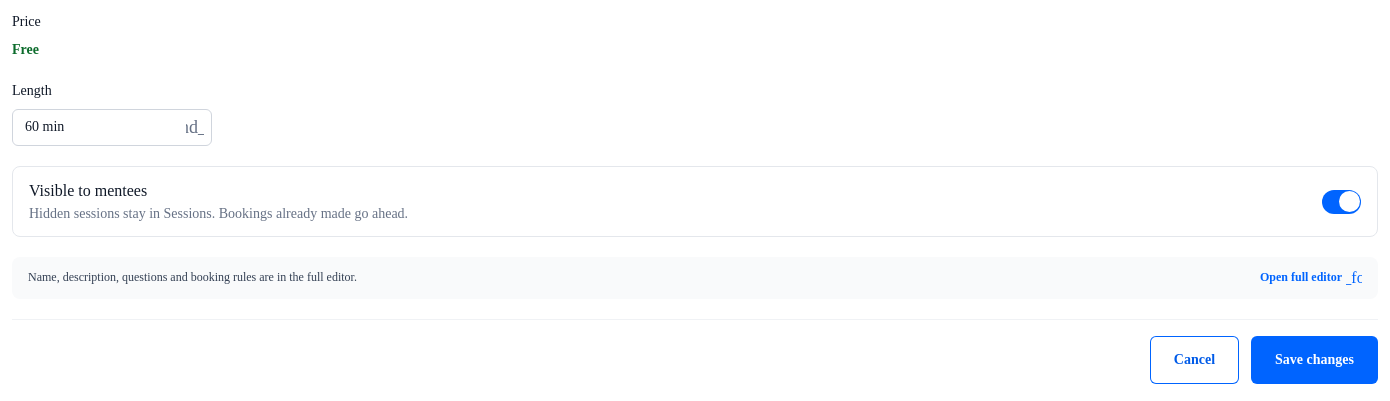
Test: SessionTypeQuickEdit › Length is named by its label alone, and a pick closes the list
What coordinates should you click on to do the following:
click the dropdown named "Length"
I would click on:
 (112, 127)
Its box is [12, 109, 212, 146].
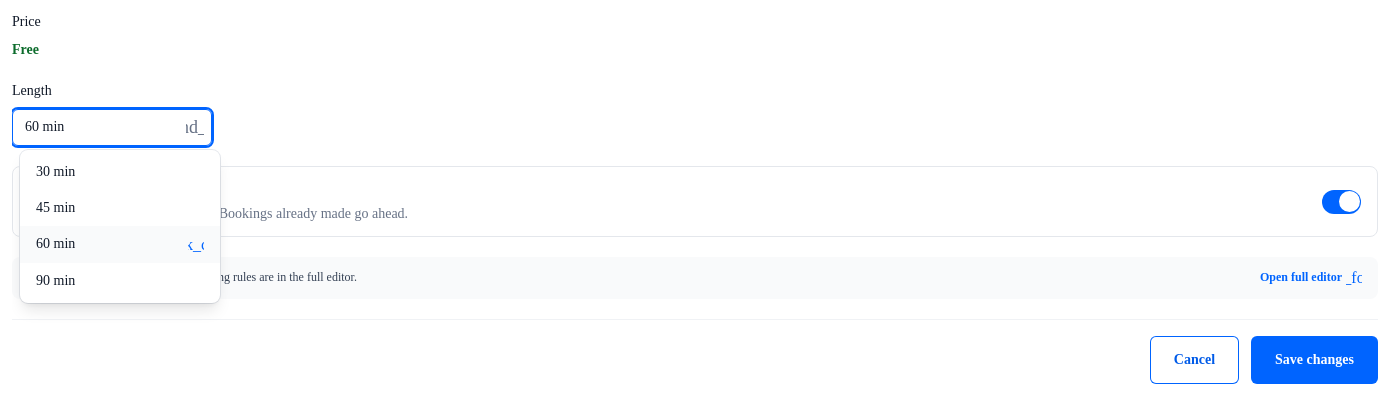
What coordinates should you click on to do the following:
click the option "45 min"
I would click on:
 (56, 208)
Its box is [36, 200, 75, 215].
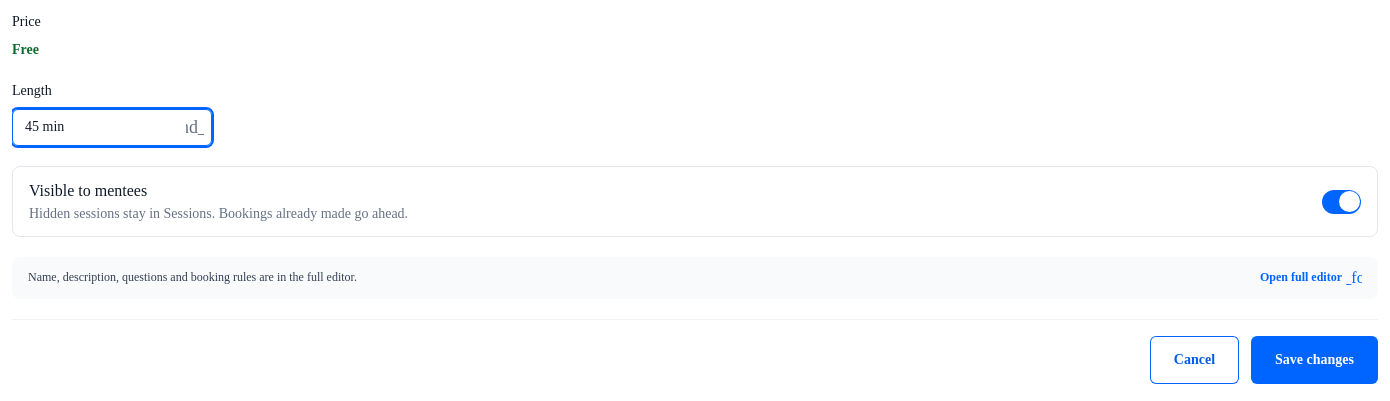
Check: the dropdown named "Length" holds "45", box [12, 109, 212, 146]
Check: the list is gone
